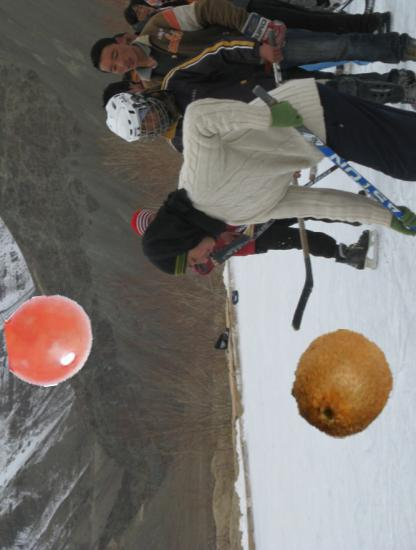Kiwi: (287, 329, 397, 439)
Redcurrant: (4, 295, 95, 386)
